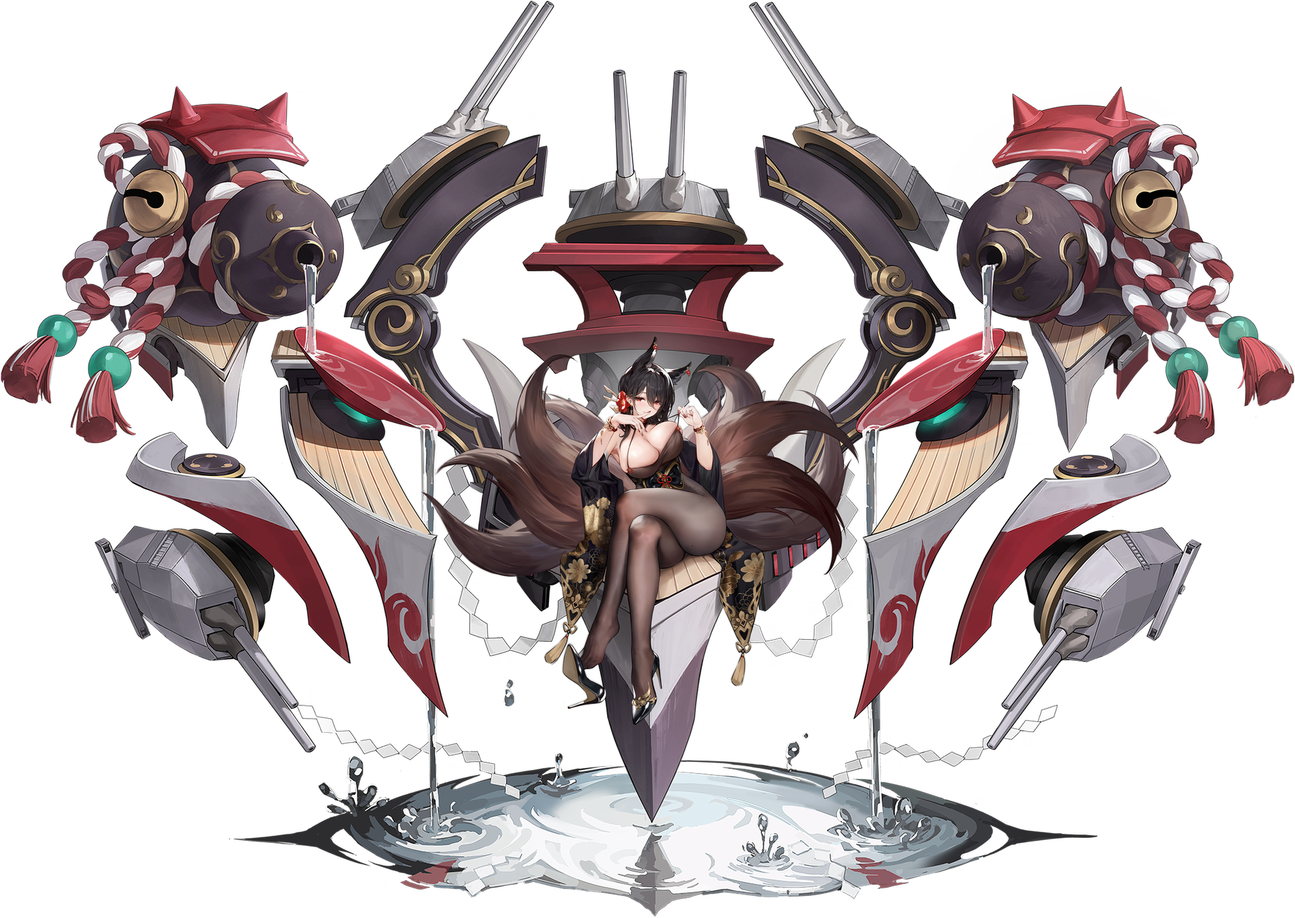person: (534, 339, 738, 847)
